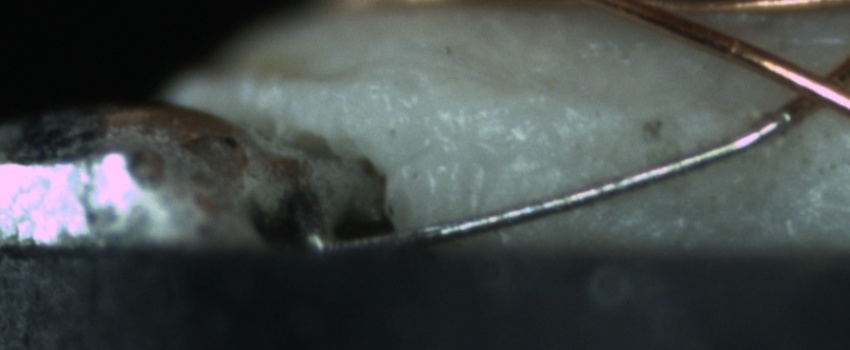CL: (767, 51, 848, 120)
DL: (457, 80, 850, 133)
TS: (317, 111, 791, 256)
